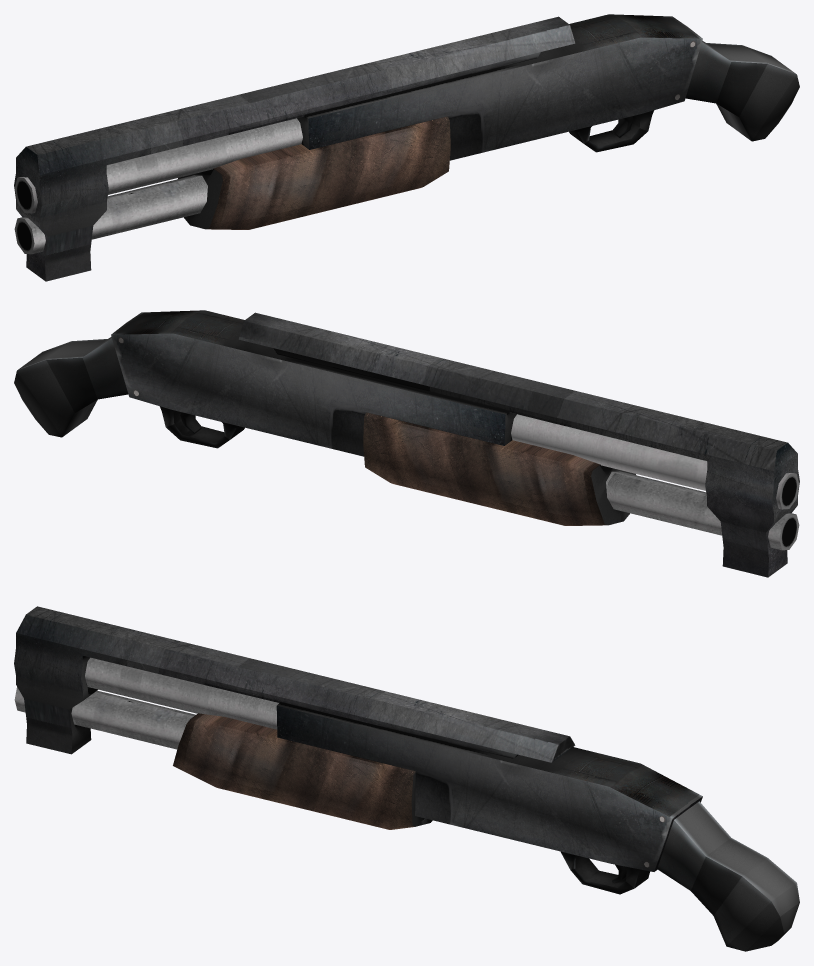
File: shotgun.fbx
3 renders of one model, top to bottom at view 1: azimuth 30°, elevation 25°; view 2: azimuth 150°, elevation 25°; view 3: azimuth 330°, elevation 25°, orthographic.
Visible parts, largest first — view 1: Shotgun; view 2: Shotgun; view 3: Shotgun.
Boxes of the visible parts, box(x1,y1,x2,y2) form: Shotgun: box(14, 14, 799, 281); Shotgun: box(14, 310, 799, 577); Shotgun: box(14, 606, 799, 951).
Size of the model in its own units: 415 by 81.63 by 36.82.
Materials: 1 (1 with a texture image).
